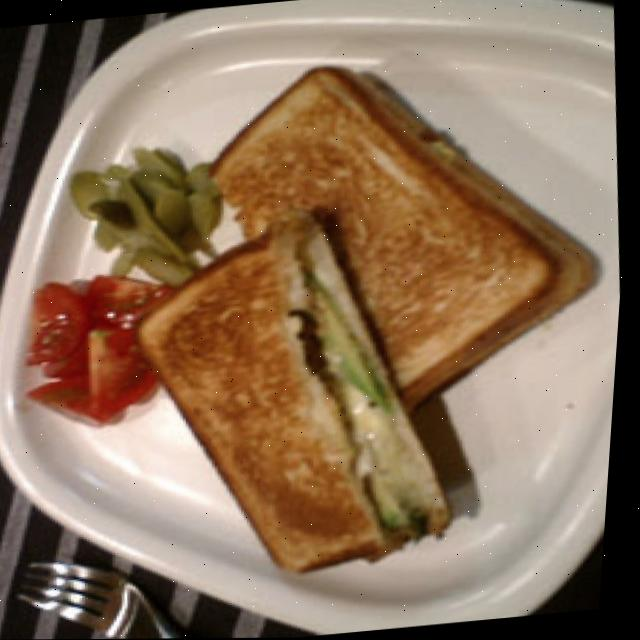三明治: (85, 36, 633, 585)
